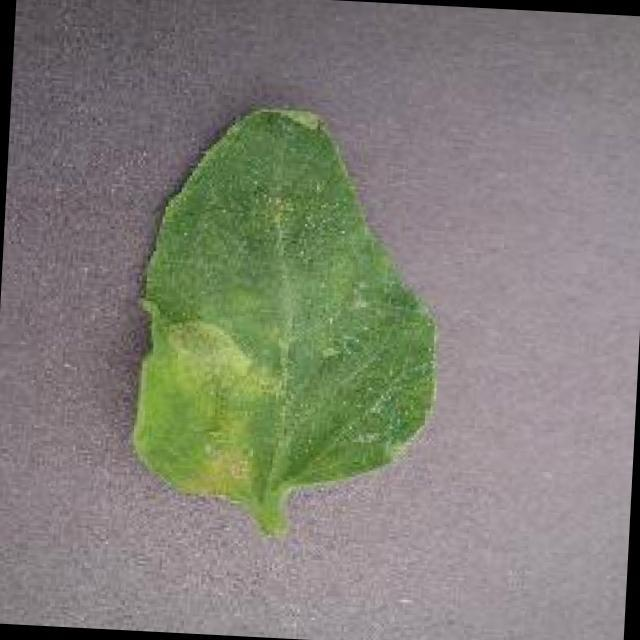Tomato late blight leaf: (117, 90, 457, 518)
